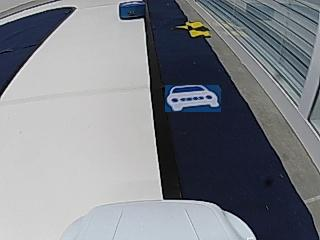prop: (120, 1, 145, 20)
